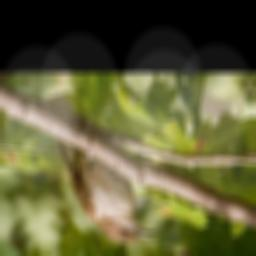Cuckoo: (44, 88, 158, 249)
